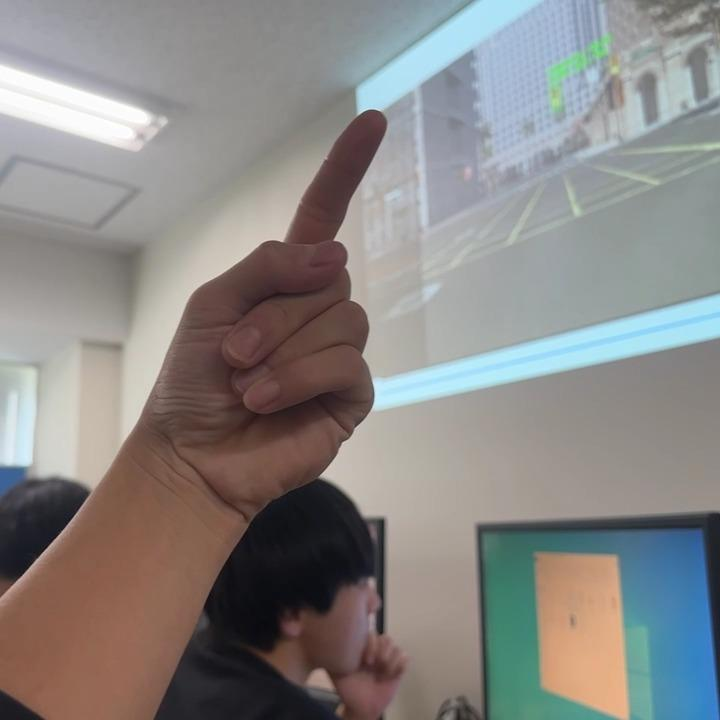without_gloves: (0, 76, 527, 638)
